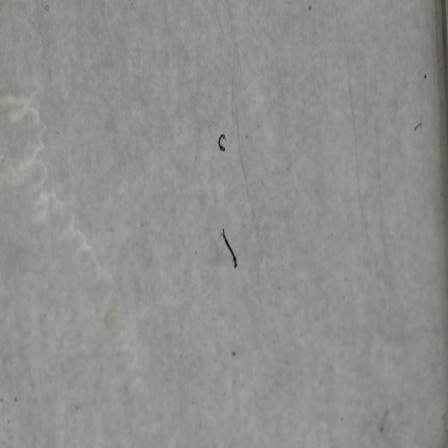Jentik-Nyamuk: (217, 225, 241, 271), (214, 131, 229, 153)
